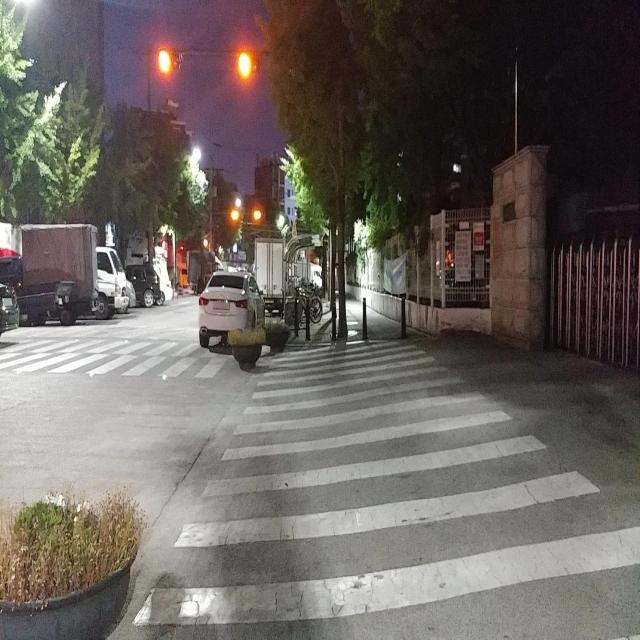횡단보도: (132, 339, 640, 639), (0, 333, 237, 380)
